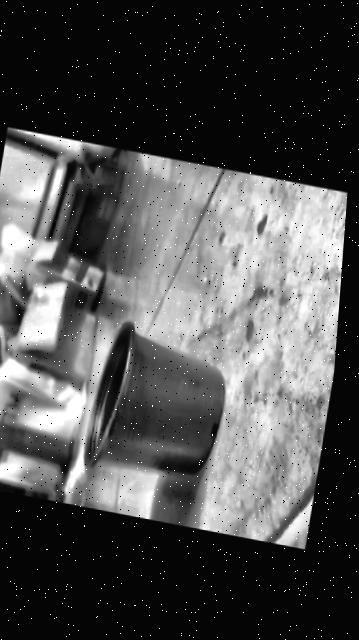pot: (78, 317, 232, 493)
